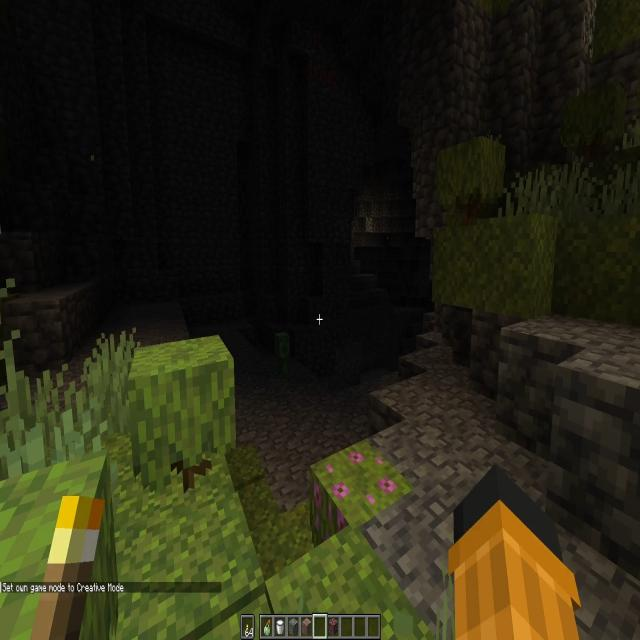Creeper: (276, 332, 290, 372)
